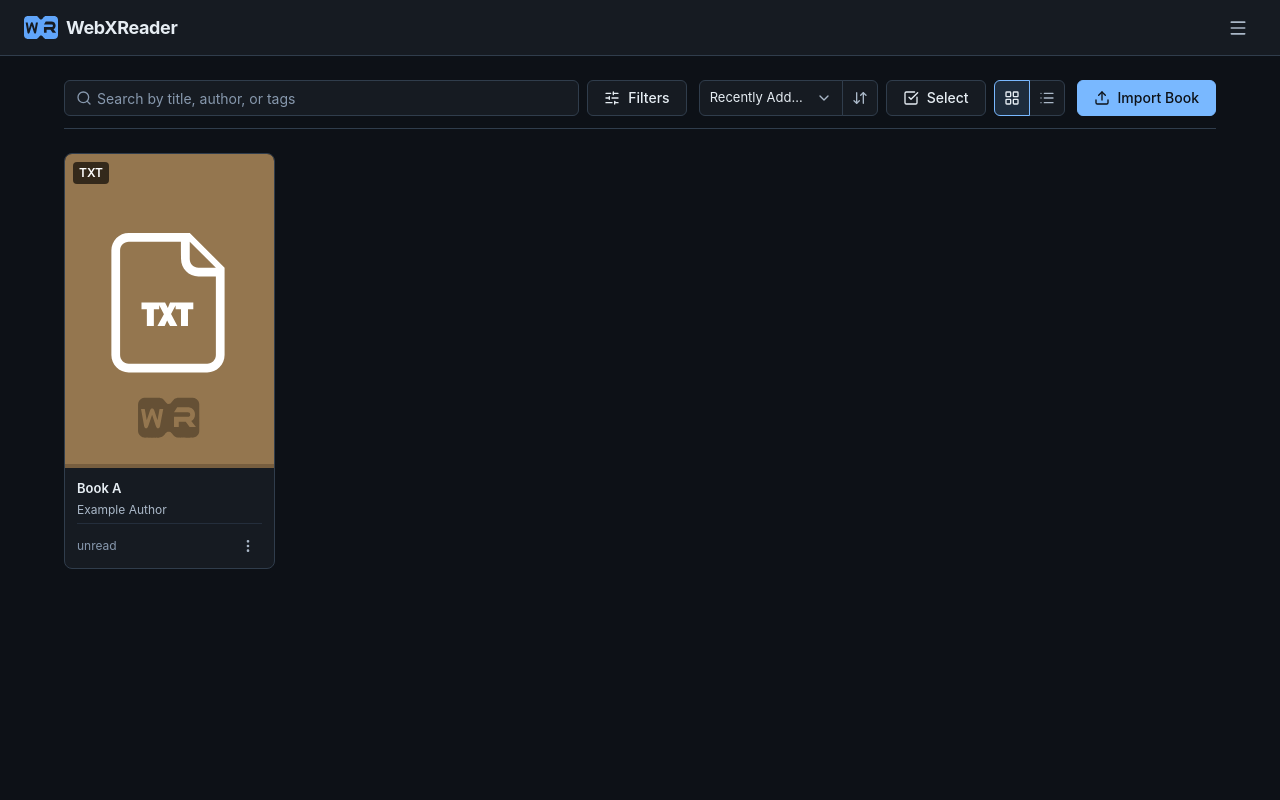
Scenario: Series › adds a book from the list menu using an existing series
The width and height of the screenshot is (1280, 800).
Expected: the button named "Actions for Book A" is shown, top-left (234, 532), bottom-right (262, 560)
Click the button named "List view" at (1046, 98), box top-left (1028, 80), bottom-right (1064, 116)
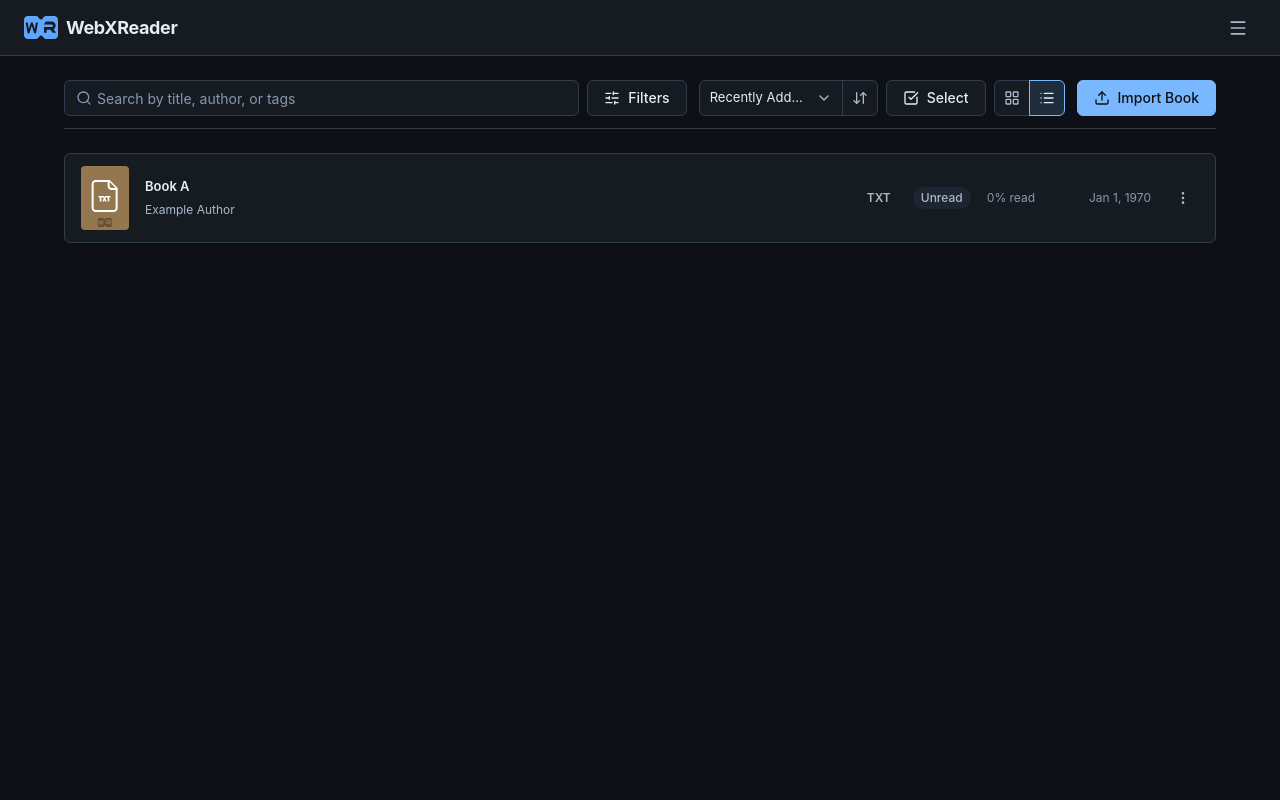
Expected: the button named "List view" is pressed, top-left (1028, 80), bottom-right (1064, 116)
Click the button named "Actions for Book A" at (1183, 198), box top-left (1167, 182), bottom-right (1199, 214)
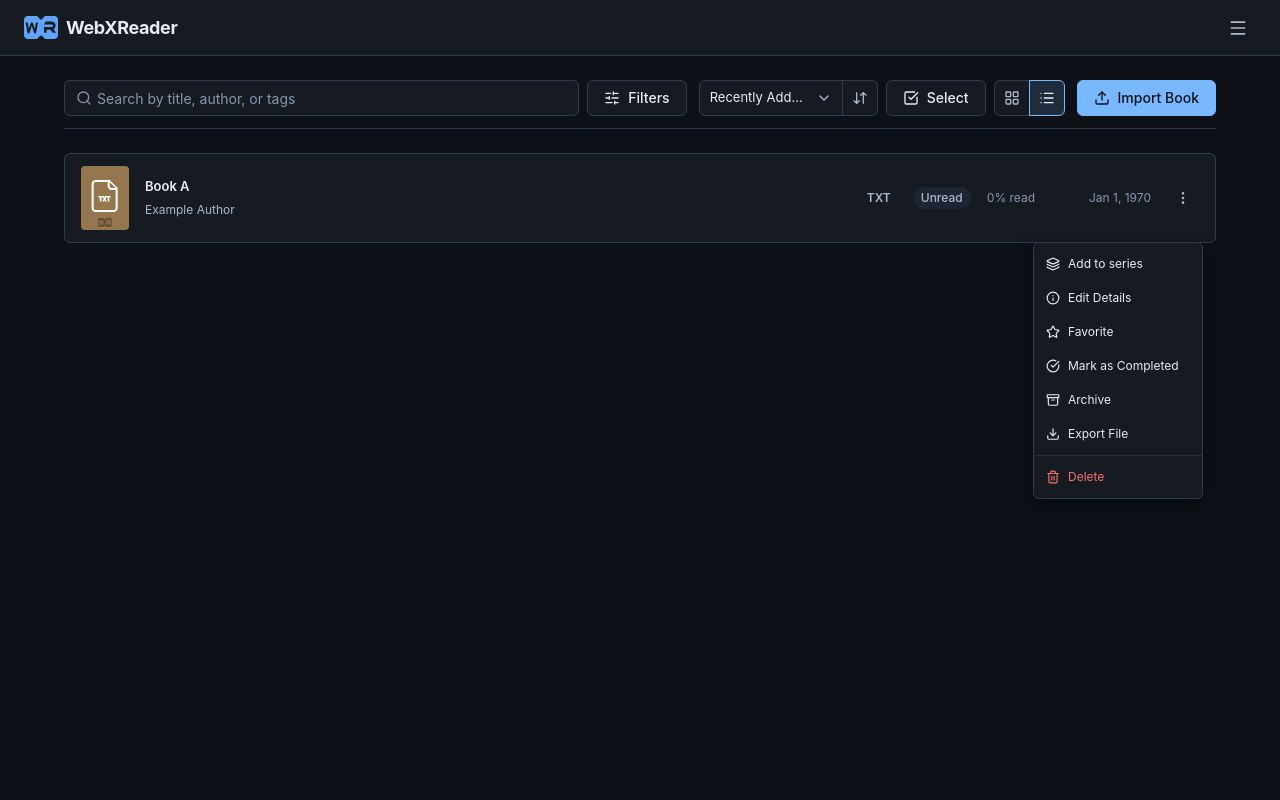
Expected: the menu item "Add to series" is shown
Click the menu item "Add to series" at (1118, 264), box top-left (1034, 247), bottom-right (1202, 281)
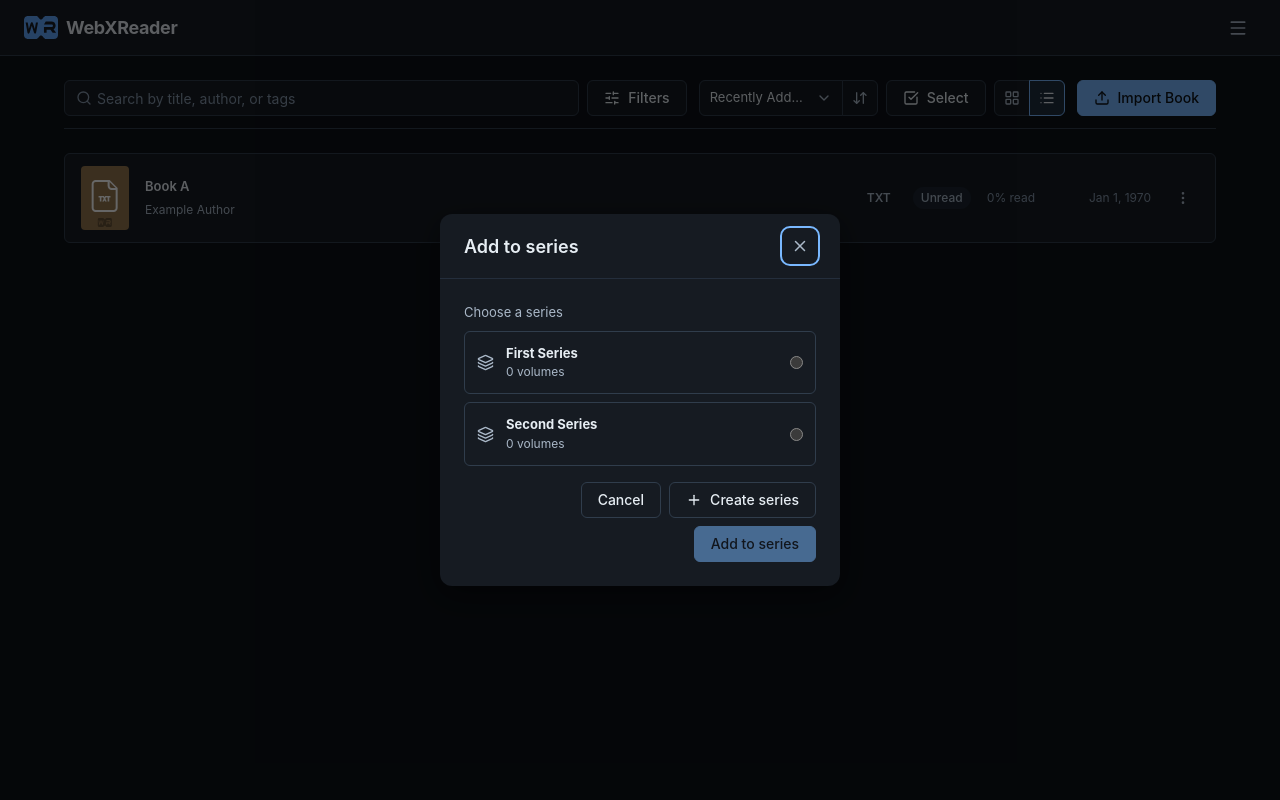
Expected: the number of radio buttons is 2
Click the radio button labelled "Second Series 0 volumes" at (796, 434), box top-left (790, 428), bottom-right (803, 440)
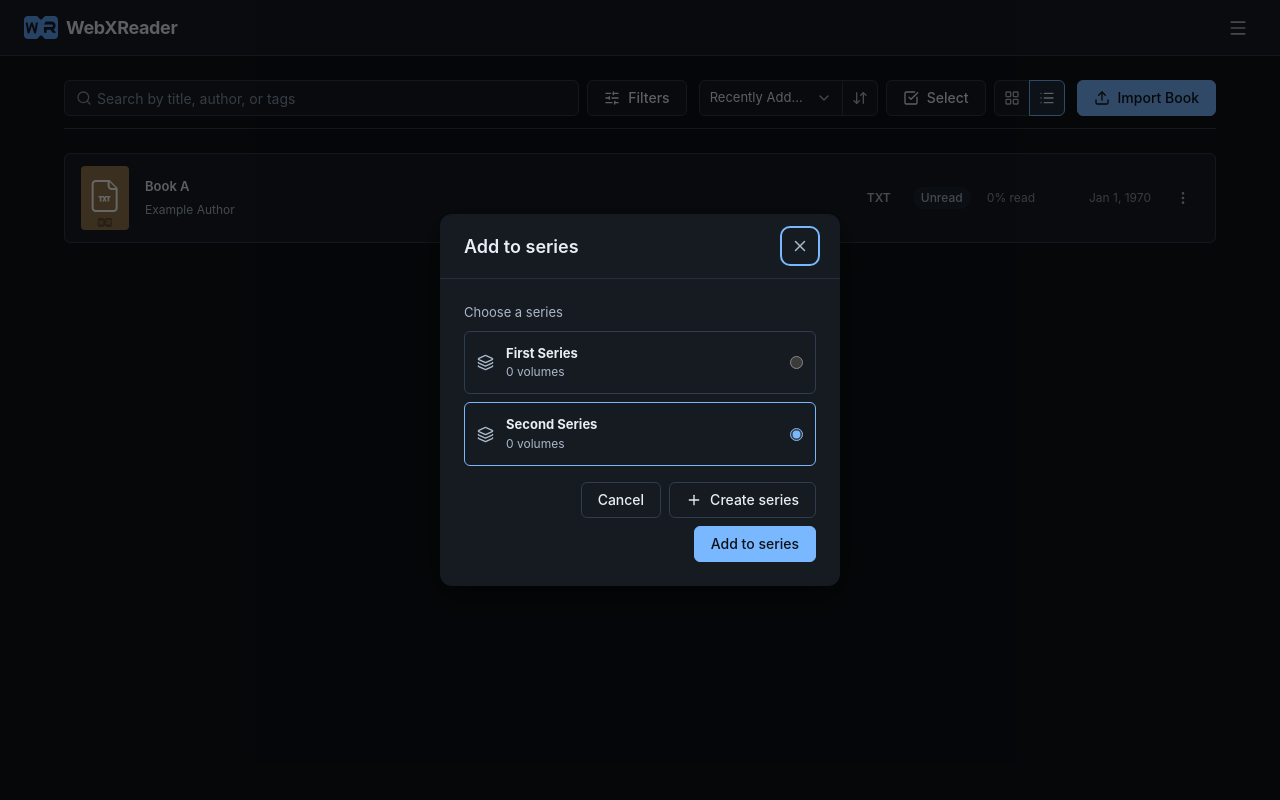
Click the button "Add to series" at (755, 544), box top-left (694, 526), bottom-right (816, 562)
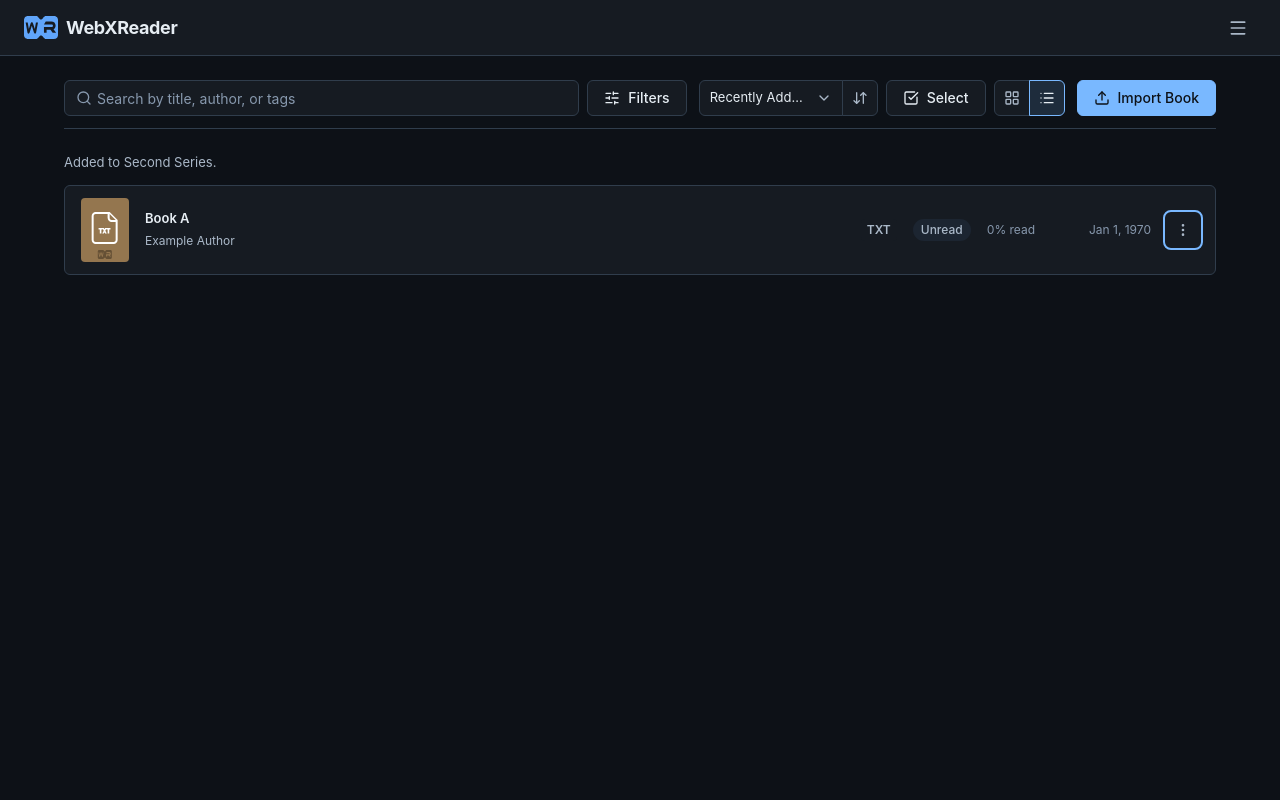
Expected: the text "Added to Second Series." is shown, top-left (64, 154), bottom-right (216, 170)
